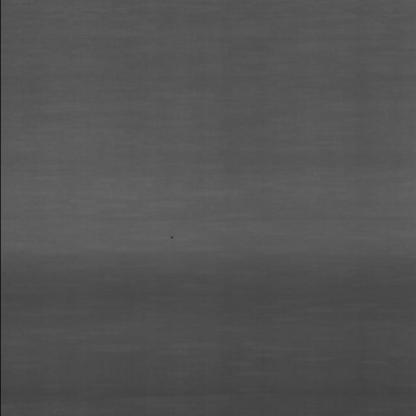inclusion: (160, 230, 184, 246)
